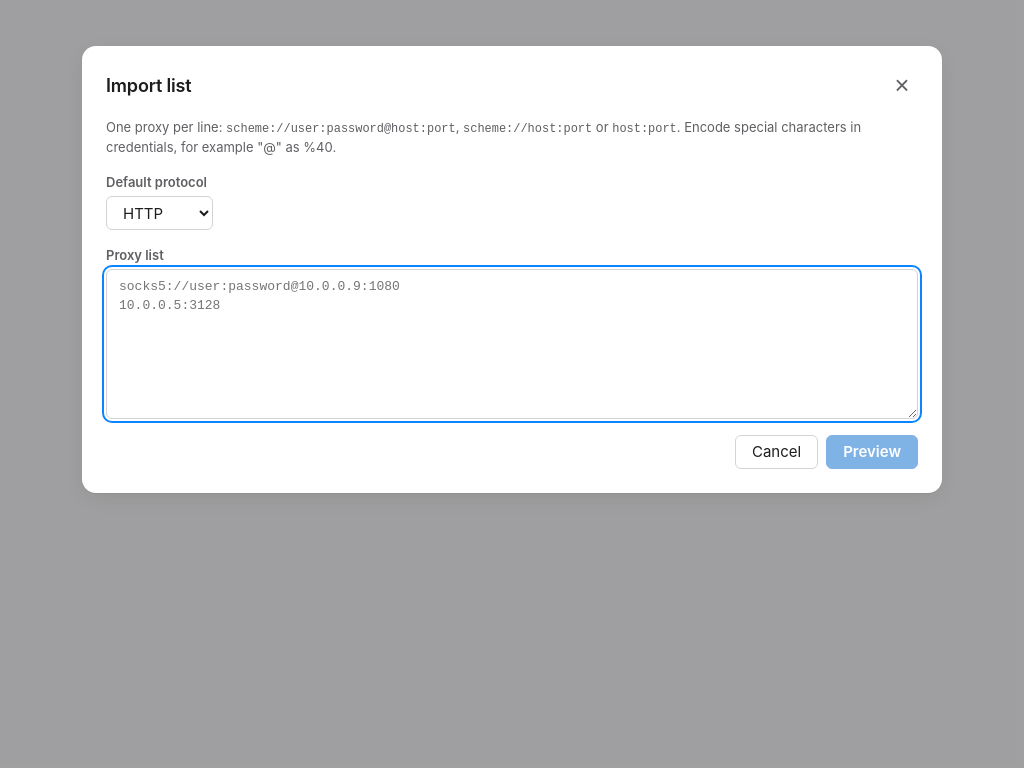
Test: ImportDialog › discards the preview when the text changes so a stale selection cannot be imported
Type "anything" into the text box labelled "Proxy list" at (512, 344), box [106,269,918,419]
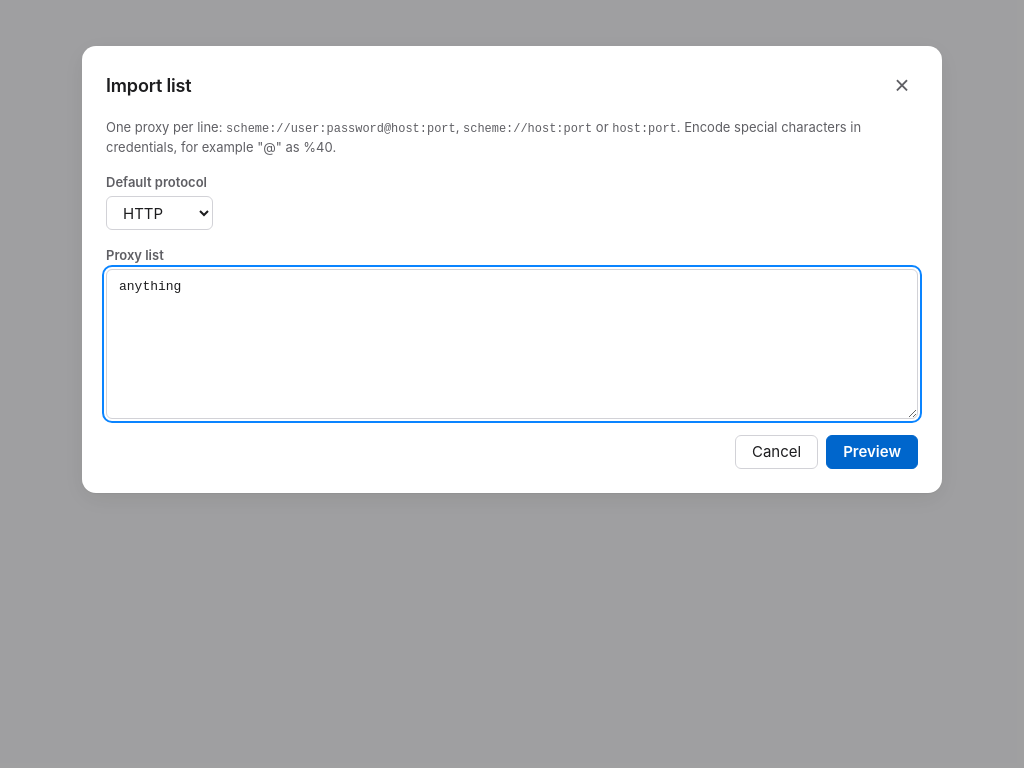
Click the button "Preview" at (872, 452), box [826,435,918,469]
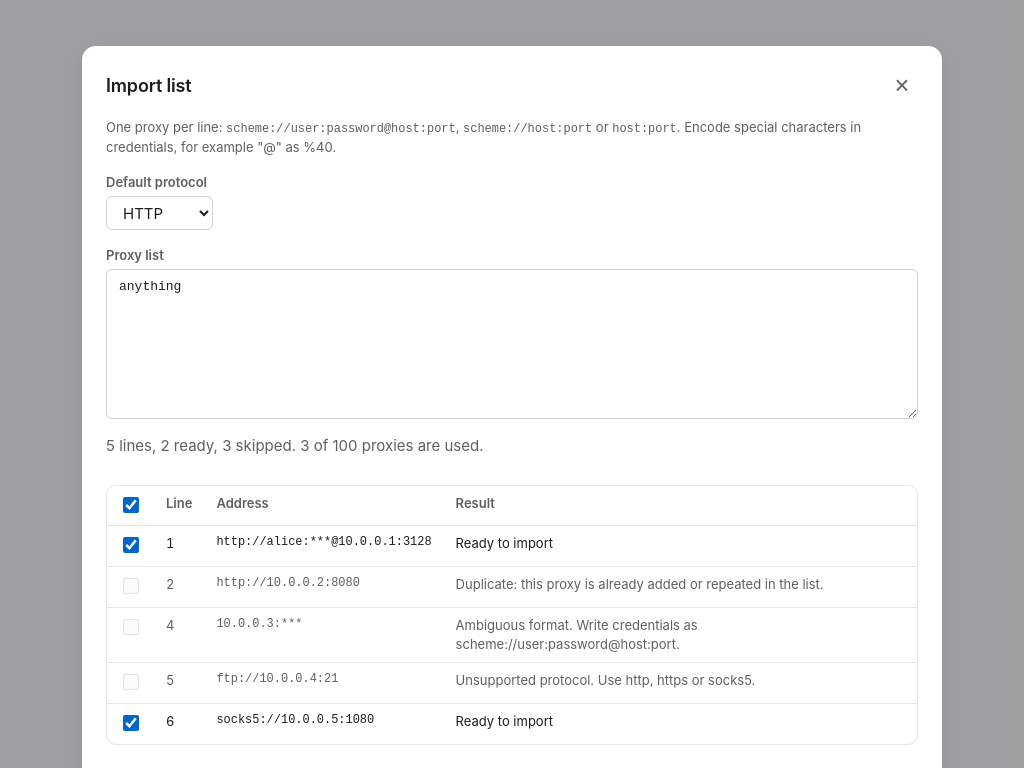
Now the table is shown, box [107,486,917,744]
Type " more" into the text box labelled "Proxy list" at (512, 344), box [106,269,918,419]
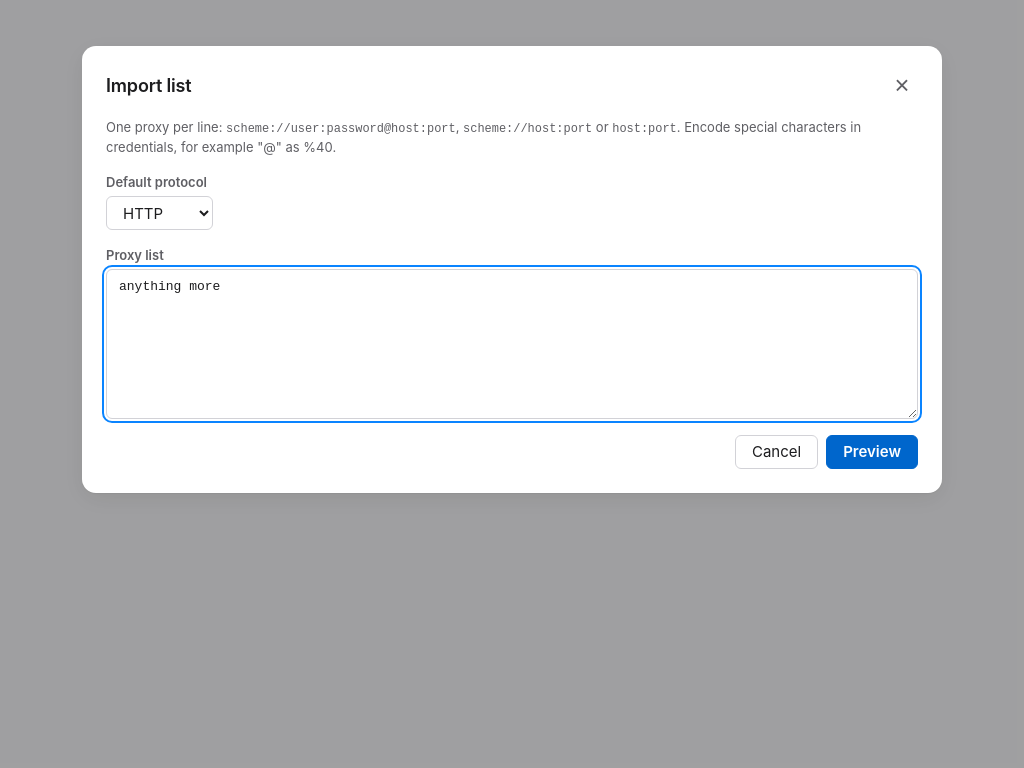
Now the table is gone
